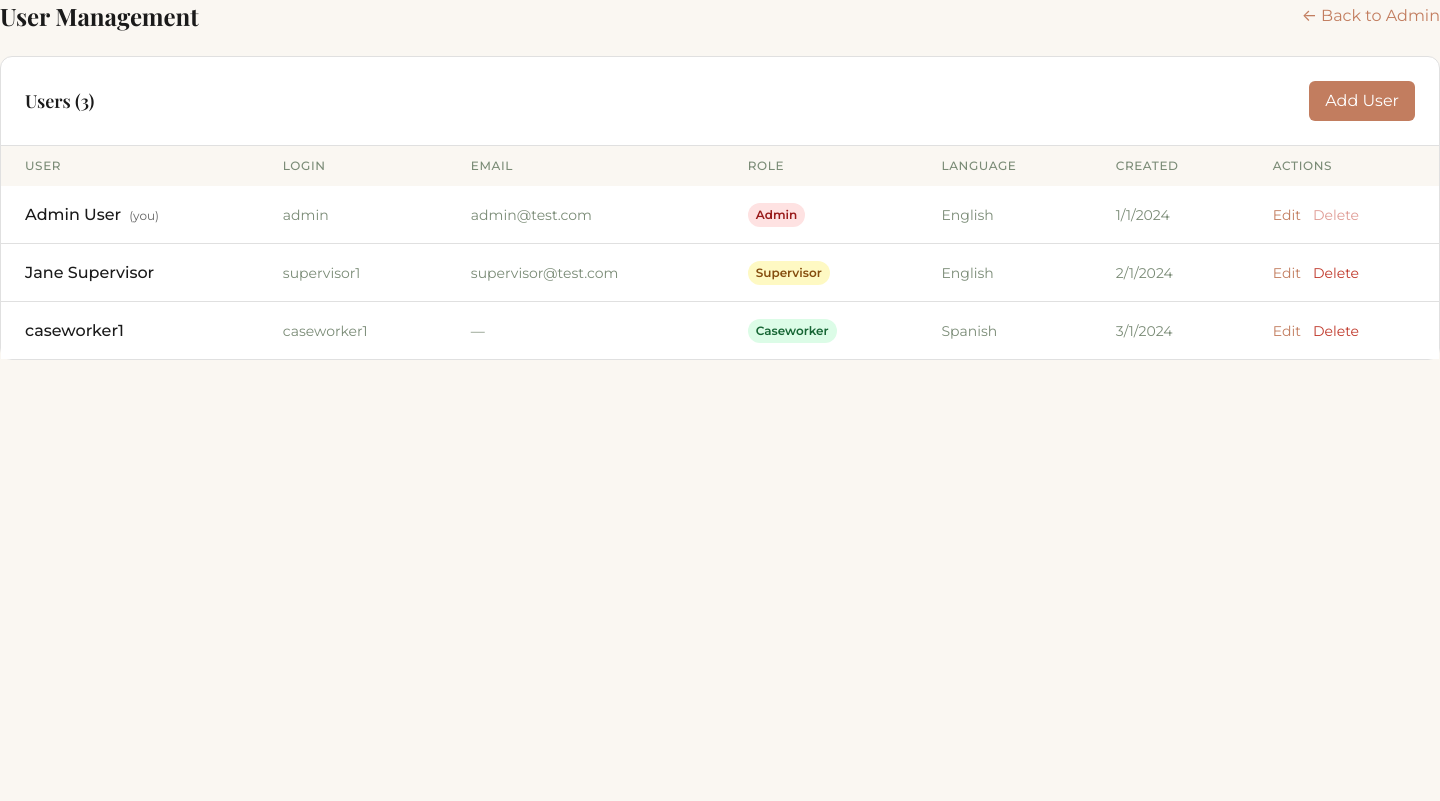
it: AdminUsersPage › should show add user form when add button clicked
Expected: the heading "Users (3)" is shown, [25, 87, 94, 115]
Click the button "Add User" at (1362, 101), box [1309, 81, 1415, 121]
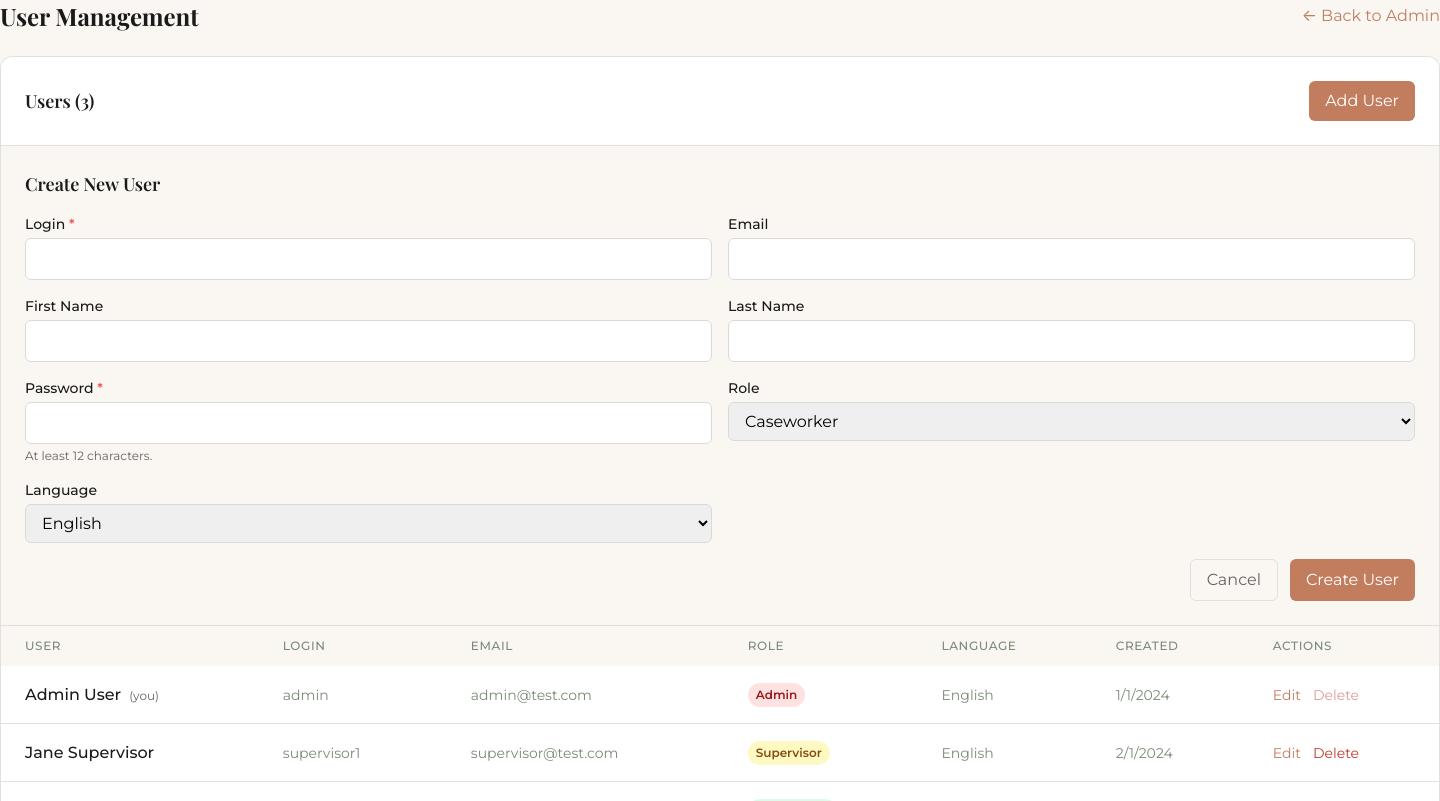
Expected: the heading "Create New User" is shown, [25, 172, 160, 196]
Expected: the field labelled "Login *" is shown, [25, 238, 712, 280]
Expected: the field labelled "Email" is shown, [728, 238, 1415, 280]
